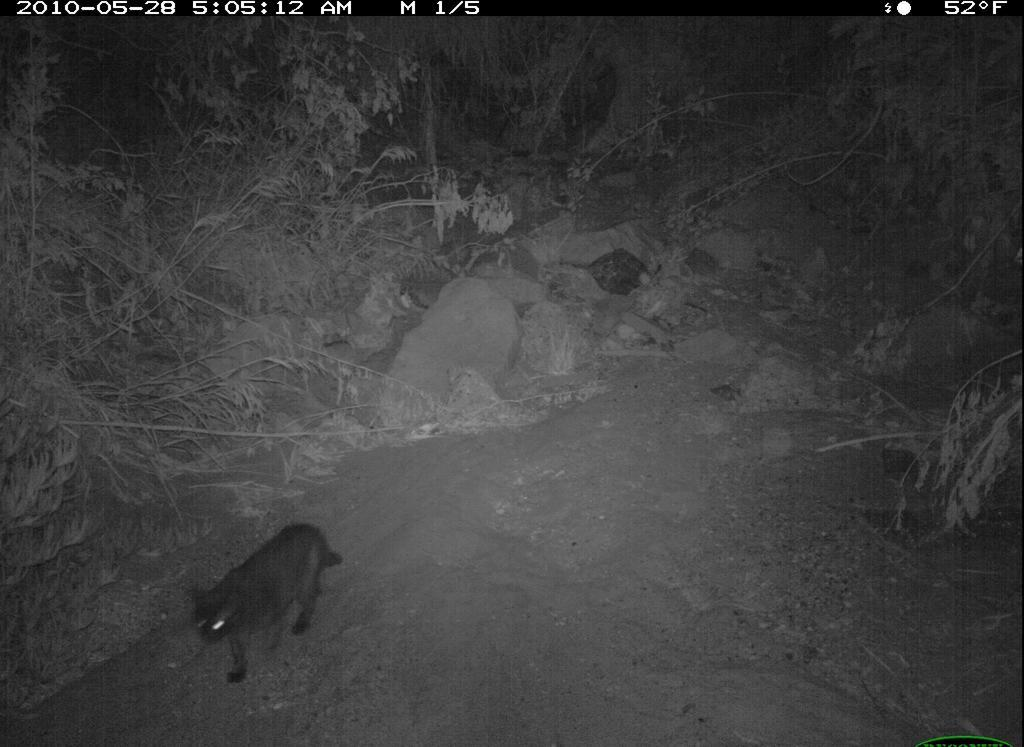cat: (176, 510, 346, 679)
